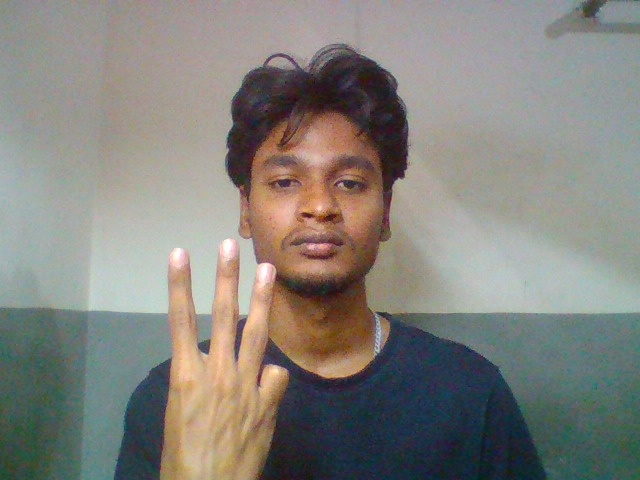W: (152, 232, 306, 476)
